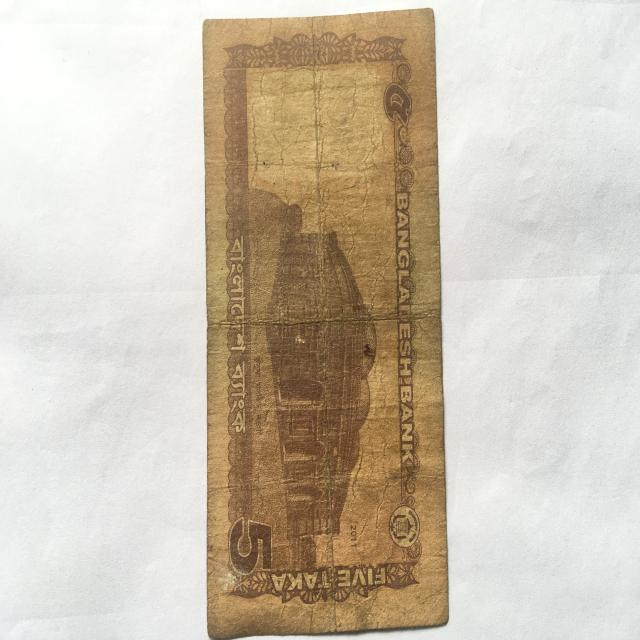Taka: (201, 5, 454, 631)
